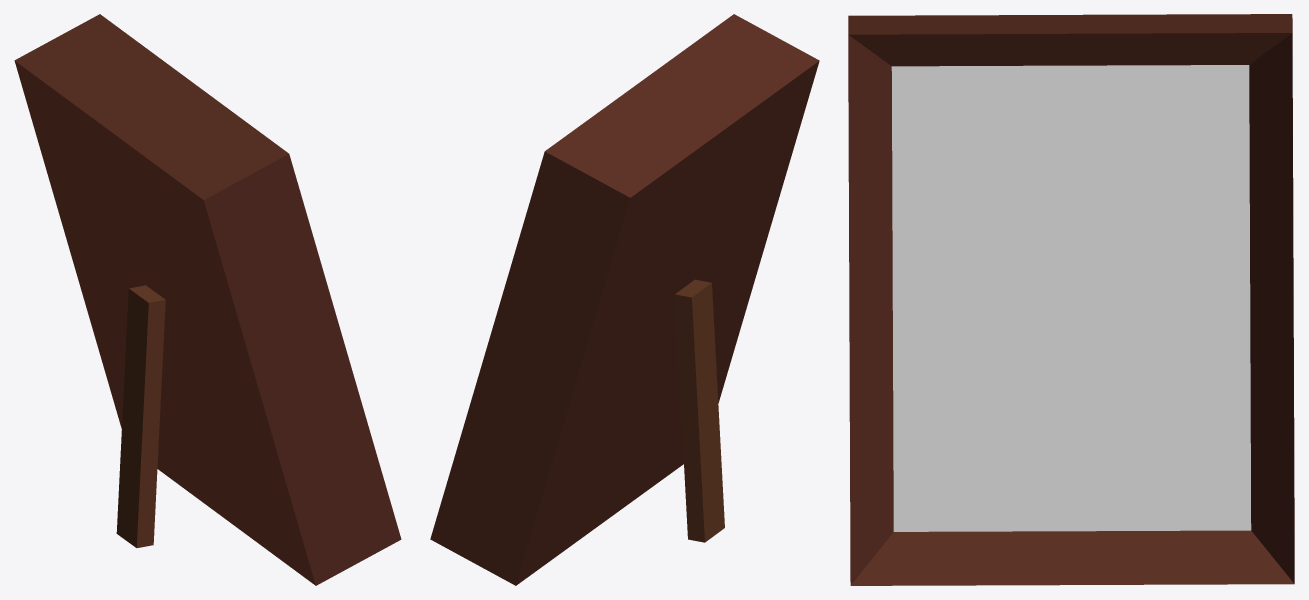
File: frame.fbx
The picture shows the model from 3 angles, left to right: view 1: azimuth 30°, elevation 25°; view 2: azimuth 150°, elevation 25°; view 3: azimuth 270°, elevation 25°; orthographic projection. The views are drawn at different scales.
Visible parts, largest first — view 1: Cube, Cube.001; view 2: Cube, Cube.001; view 3: Cube.
Part boxes in pixels (x1,y1,x2,y2): Cube: (14,14,401,585); Cube.001: (116,285,165,547); Cube: (430,14,819,585); Cube.001: (675,279,724,542); Cube: (848,14,1294,585).
Size of the model in its own units: 179 by 379 by 296.
